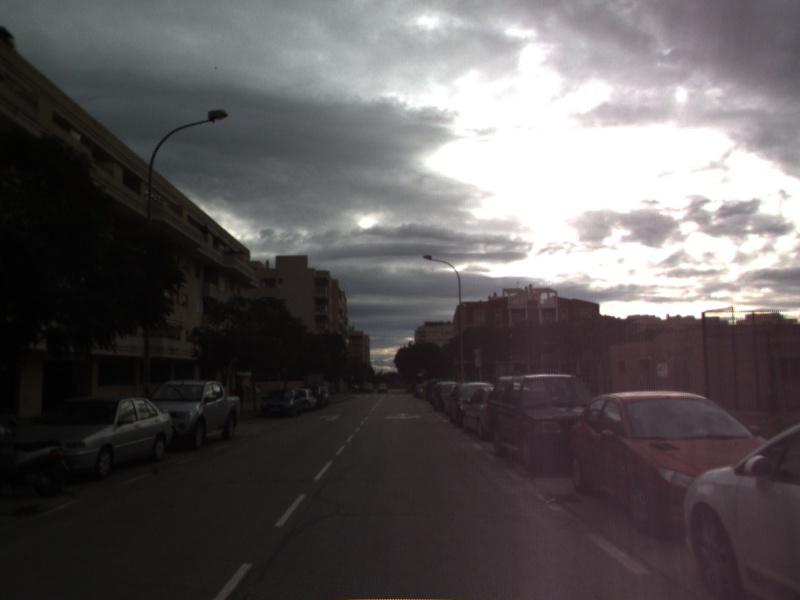STRAIGHT_LEFT_RIGHT: (382, 410, 424, 422)
